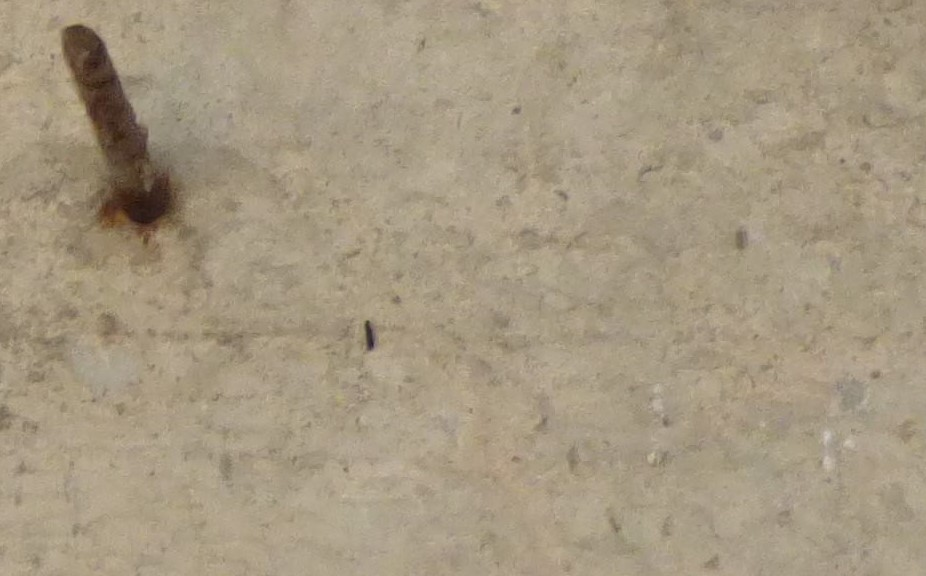Exposed reinforcement: (60, 23, 166, 224), (365, 319, 375, 352)
